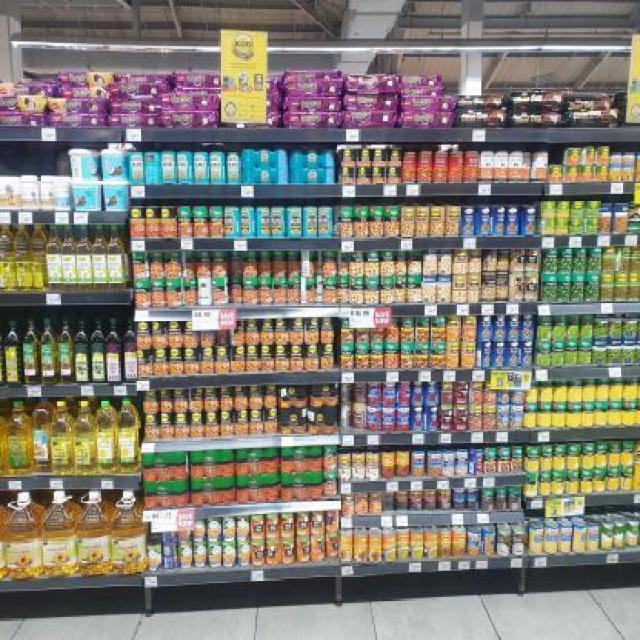Beans: (334, 149, 358, 183), (388, 145, 404, 187), (373, 147, 389, 184), (129, 205, 146, 239), (338, 205, 356, 237), (136, 349, 156, 377), (144, 209, 162, 240), (359, 149, 375, 183), (162, 206, 179, 237), (260, 343, 277, 374), (201, 344, 218, 375), (219, 381, 236, 412), (353, 206, 371, 235), (371, 202, 385, 239), (194, 207, 210, 239), (184, 318, 200, 350), (152, 319, 170, 347), (217, 344, 233, 375), (276, 344, 293, 372), (153, 348, 170, 376), (176, 389, 193, 417), (204, 412, 221, 440), (219, 412, 236, 440), (430, 208, 446, 237), (341, 316, 357, 345), (276, 318, 292, 347), (144, 387, 160, 416), (143, 416, 163, 439), (307, 312, 321, 344), (245, 318, 261, 346), (171, 319, 187, 347), (288, 348, 304, 376), (303, 348, 319, 376), (265, 381, 281, 409), (264, 409, 280, 437), (164, 347, 181, 373), (387, 206, 401, 237), (210, 207, 224, 238), (431, 341, 445, 372), (271, 250, 287, 276), (321, 252, 337, 278), (165, 252, 181, 278), (132, 253, 148, 279), (243, 278, 259, 304), (166, 280, 182, 306), (175, 410, 191, 436), (178, 207, 192, 236), (416, 207, 430, 236), (454, 248, 468, 277), (136, 279, 150, 308), (207, 387, 221, 416), (401, 206, 415, 234), (446, 208, 460, 236), (274, 275, 288, 303), (452, 276, 466, 304), (324, 277, 338, 305), (415, 315, 429, 343), (248, 345, 262, 373), (162, 412, 176, 440), (242, 251, 258, 275), (431, 318, 447, 342), (322, 315, 334, 347), (322, 350, 338, 374), (249, 385, 265, 409), (192, 382, 204, 414), (249, 412, 265, 436), (198, 251, 212, 277), (150, 252, 164, 278), (258, 277, 272, 303), (152, 279, 166, 305), (235, 387, 249, 413), (189, 413, 203, 439), (214, 249, 226, 278), (235, 318, 247, 347), (258, 250, 272, 274), (287, 251, 301, 275), (468, 275, 480, 303), (351, 278, 365, 302), (322, 278, 336, 302), (212, 279, 226, 303), (183, 279, 197, 303), (401, 316, 415, 340), (465, 315, 477, 343), (233, 348, 247, 372), (189, 349, 203, 373), (469, 405, 483, 429), (229, 252, 243, 275), (408, 252, 422, 275), (447, 316, 461, 339), (136, 323, 150, 346), (356, 343, 370, 366), (469, 381, 483, 404), (235, 413, 251, 433), (352, 253, 364, 279), (406, 276, 418, 302), (380, 276, 392, 302), (338, 277, 350, 303), (288, 277, 300, 303), (462, 342, 474, 368), (161, 388, 173, 414), (483, 403, 495, 429), (292, 319, 303, 347), (342, 495, 356, 517), (183, 251, 195, 275), (230, 277, 242, 301), (366, 278, 378, 302), (447, 342, 459, 366), (371, 342, 383, 366), (400, 342, 412, 366), (385, 343, 397, 367), (338, 454, 350, 478), (365, 454, 377, 478), (409, 490, 423, 510), (381, 253, 393, 276), (340, 345, 352, 368), (470, 249, 481, 273), (396, 250, 407, 274), (338, 321, 350, 343), (352, 453, 363, 477), (418, 343, 429, 366), (367, 252, 378, 274), (397, 490, 408, 512), (437, 490, 449, 510), (357, 493, 368, 513), (306, 279, 315, 303), (424, 490, 436, 508), (369, 493, 380, 510), (483, 380, 491, 403), (342, 255, 350, 273)
